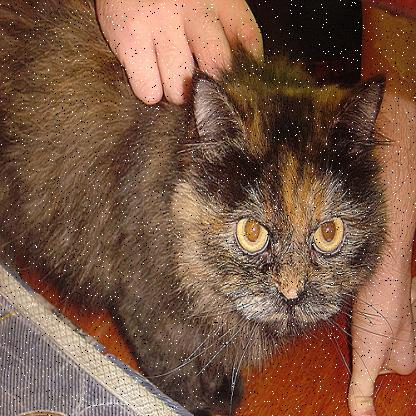cat: (56, 35, 397, 404)
